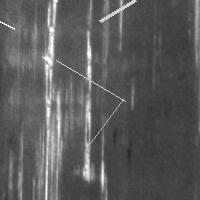scratches: (34, 1, 62, 198), (77, 28, 108, 187), (51, 55, 130, 106), (83, 94, 128, 151), (95, 0, 140, 26), (0, 1, 19, 34)
